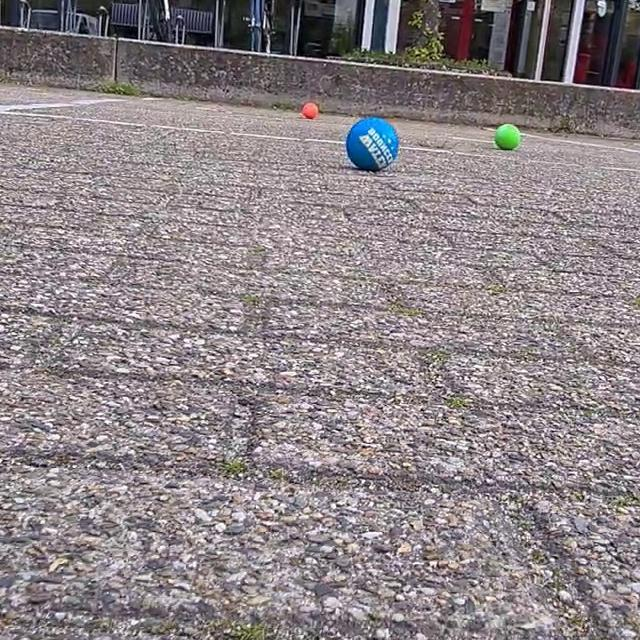ball: (492, 119, 524, 154), (299, 99, 323, 123)
